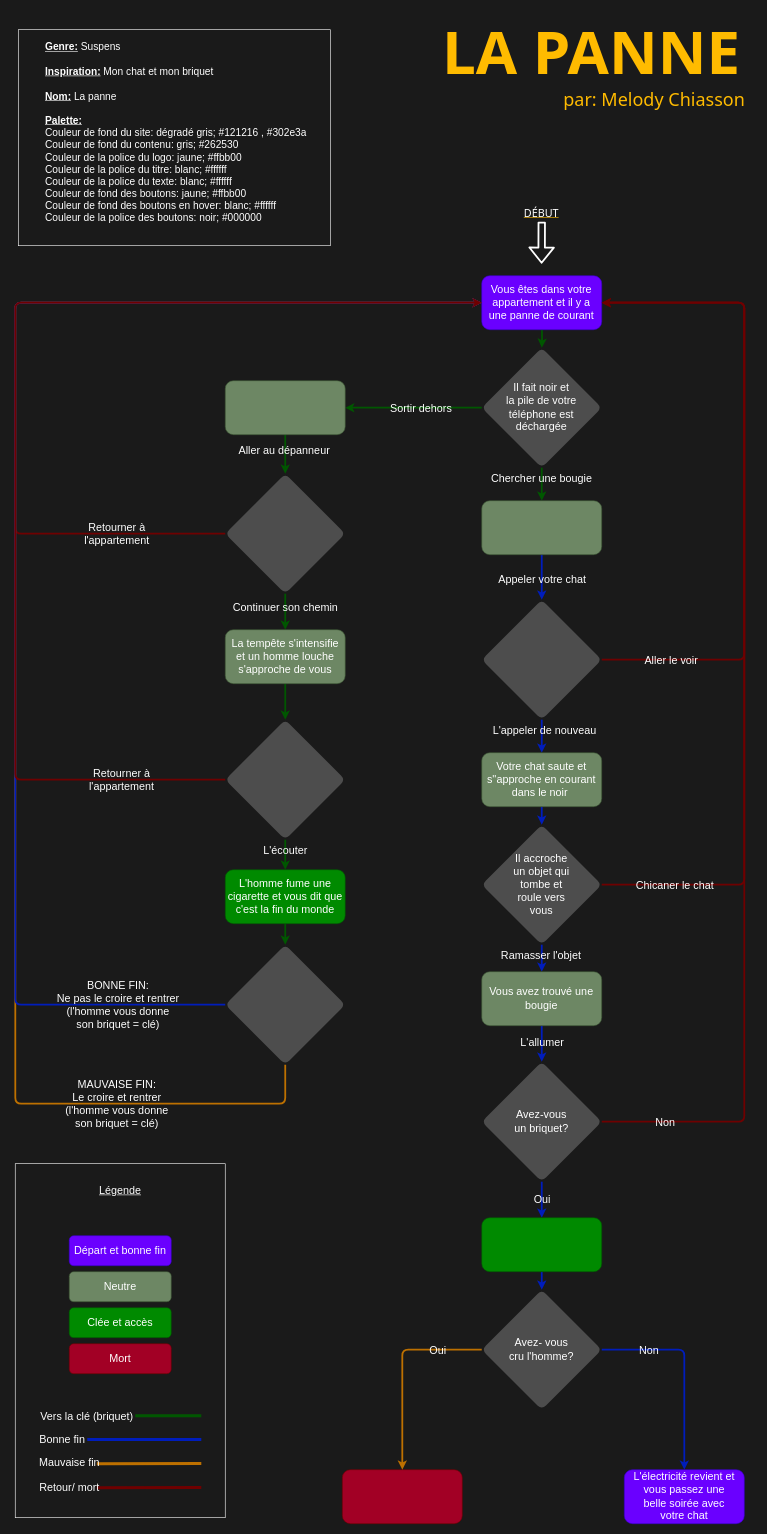
The diagram is 767 pixels wide and 1534 high, and some of its shapes have lost their labels. The centre of each missing label's shape, as x and y in pixels:
"Est-ce que vous le croyez?" goes at (285,1004).
"Il pleut et il fait froid" goes at (285,407).
"Il semble perdu et veut vous parler" goes at (285,779).
"La tempête fait exploser les transformateurs, et votre appartement prend feu" goes at (402,1496).
"Le dépanneur est fermé puisqu'il n'y a plus d'électricité" goes at (285,533).
"Votre chat miaule dans le salon" goes at (541,659).
"Vous allumez la bougie" goes at (541,1244).
"Vous ne voyez rien" goes at (541,527).
